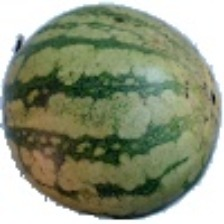watermelon: (2, 28, 203, 180)
